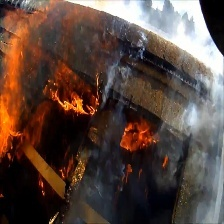fire: (4, 0, 106, 124), (118, 118, 156, 149), (160, 154, 168, 168)
